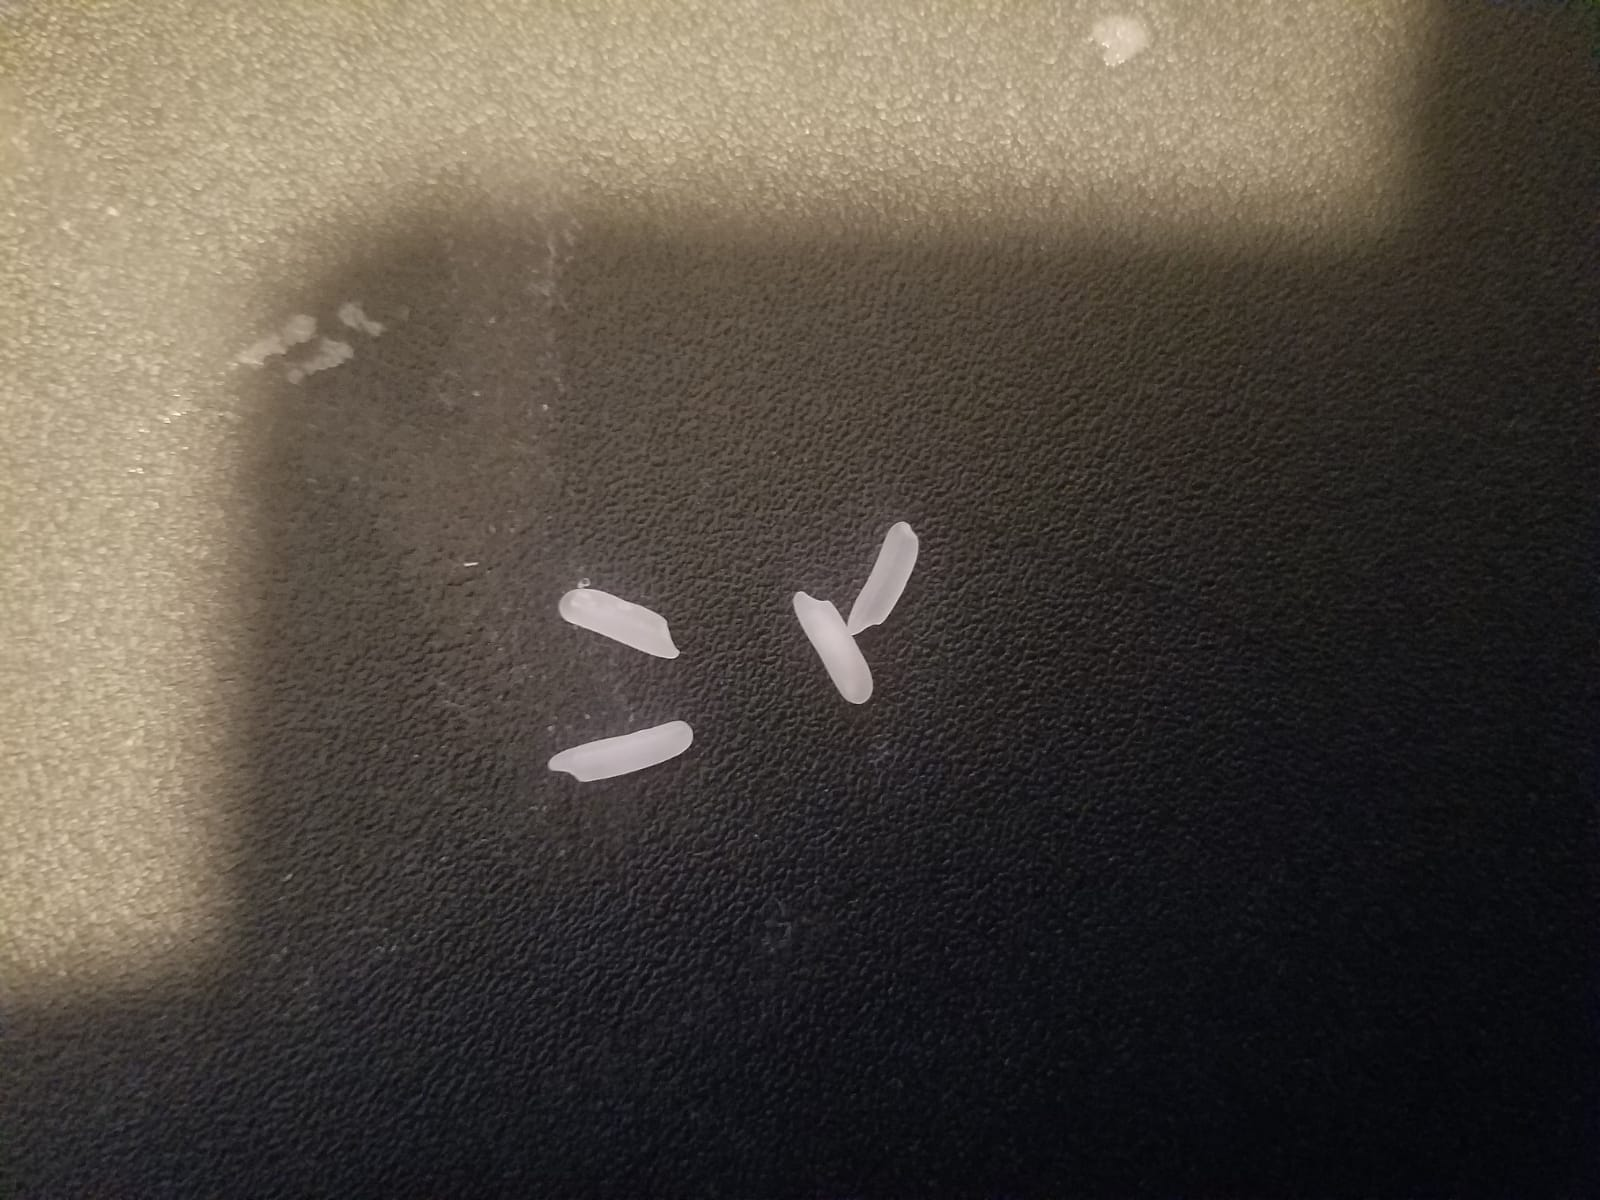egg: (544, 718, 693, 792), (791, 587, 881, 705), (556, 586, 683, 658), (847, 523, 920, 630)
